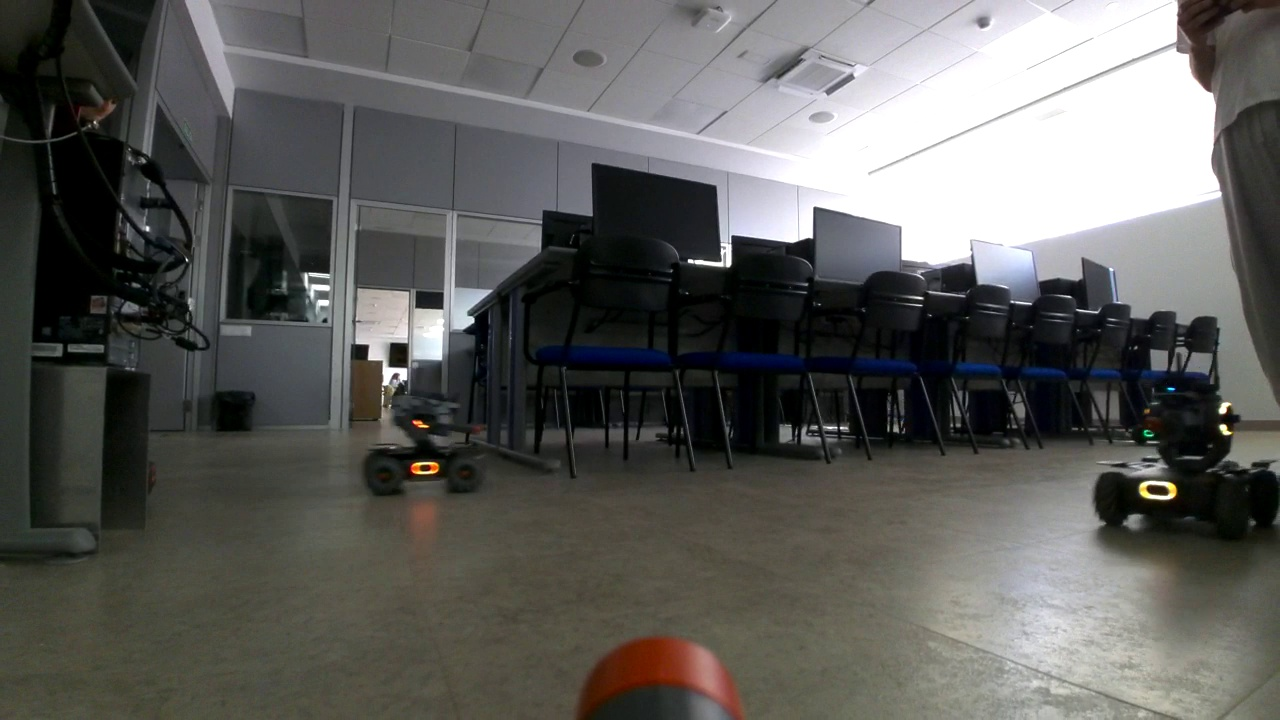robot: (1090, 352, 1280, 533), (363, 367, 486, 493), (1132, 382, 1200, 447)
